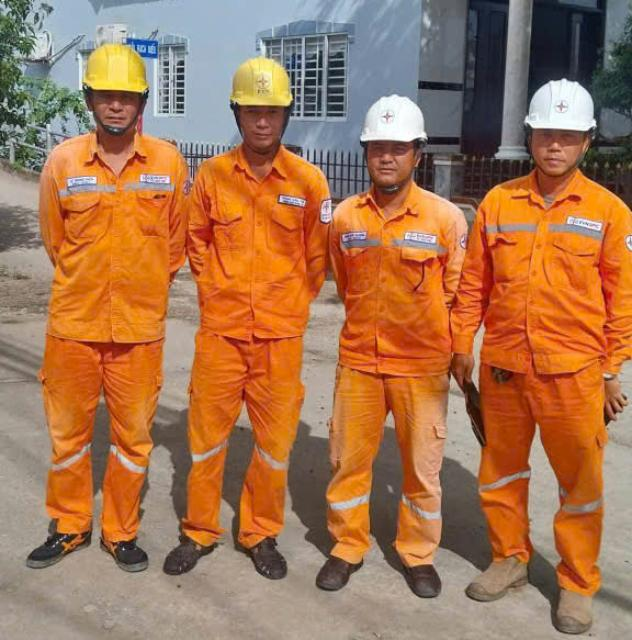helmet: (59, 41, 162, 102), (523, 75, 597, 140), (354, 92, 435, 149), (223, 58, 297, 116)
shoes: (150, 507, 235, 592), (27, 511, 112, 584), (233, 504, 304, 590), (384, 526, 456, 609), (457, 536, 544, 601), (548, 550, 607, 637), (312, 532, 380, 603), (97, 519, 158, 588)
